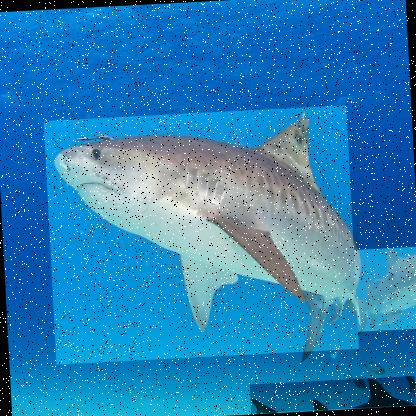tiger-shark: (43, 104, 358, 364), (249, 375, 416, 414), (352, 245, 415, 333)
